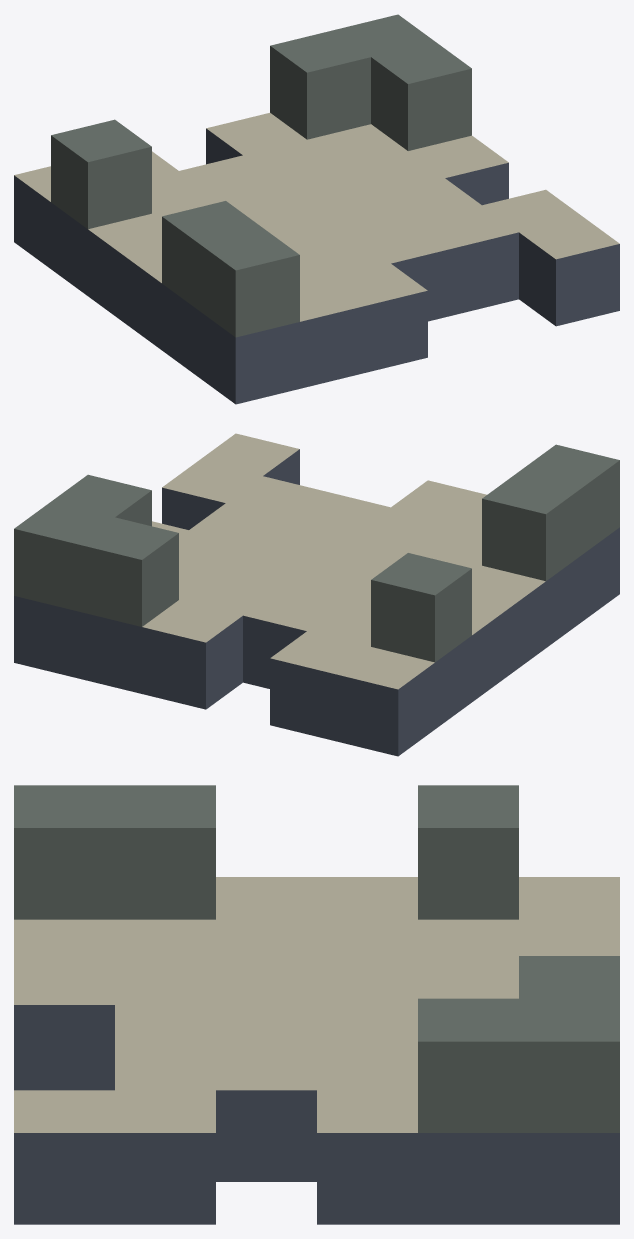
3 views of the same model, one above another, from view 1: azimuth 30°, elevation 25°; view 2: azimuth 150°, elevation 25°; view 3: azimuth 270°, elevation 25° (orthographic). The views are drawn at different scales.
Visible parts, largest first — view 1: 7.3; view 2: 7.3; view 3: 7.3.
Part boxes in pixels (x1,y1,x2,y2): 7.3: (14,14,619,404); 7.3: (14,433,619,756); 7.3: (14,785,619,1224).
Size of the model in its own units: 600 by 200 by 600.
